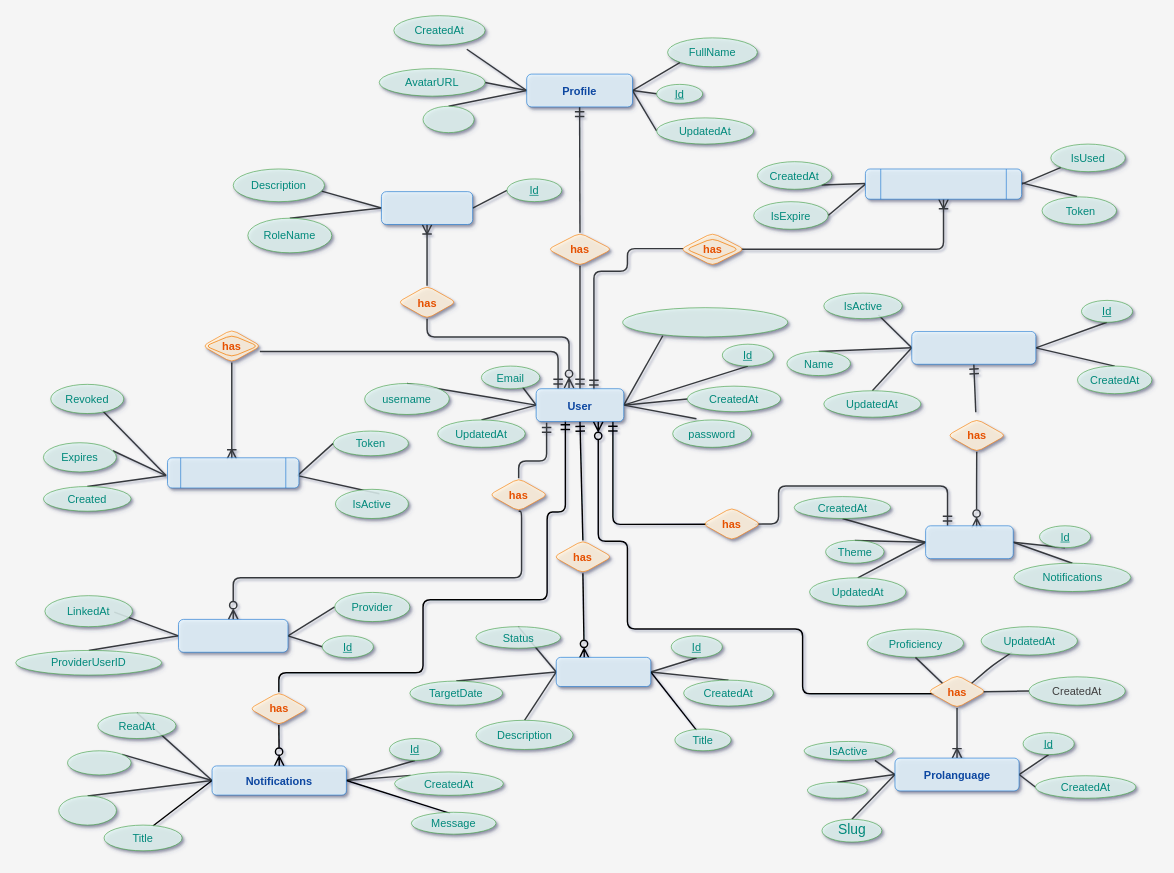
Image size: 1174x873. Some labels were removed from this diagram. The shapes that lost their labels are listed below. From the top down, each one's centre as x and y in pixels, then its label:
At point (449, 120): "Bio".
At point (944, 184): "PasswordRestToken".
At point (427, 209): "Role".
At point (705, 323): "TwoFactorEnabled".
At point (974, 348): "InterfaceLanguages".
At point (233, 473): "RefreshTokens".
At point (970, 543): "Setting".
At point (233, 636): "SocialAccount".
At point (604, 673): "Goals".
At point (99, 763): "IsRead".
At point (88, 811): "Type".
At point (838, 791): "Family".
